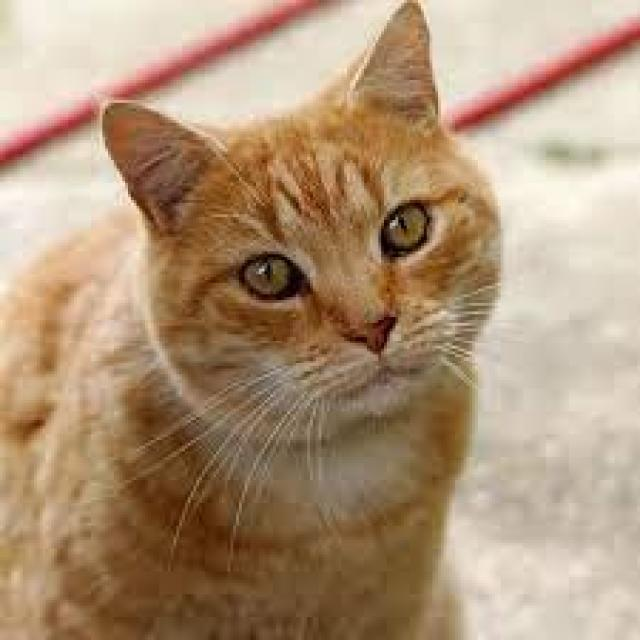Cat: (94, 4, 519, 458)
